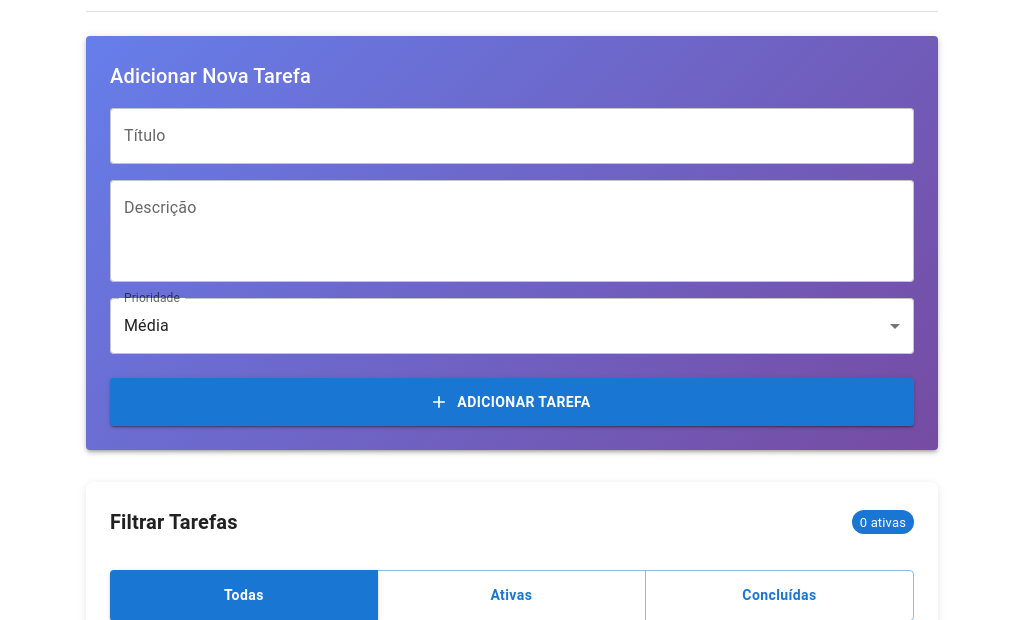
Test: Inicio › Integração de Componentes › deve adicionar tarefa através do formulário
Step 1. Type "Minha Tarefa" into the field labelled "Título" → (512, 136), box x1=110 y1=108 x2=914 y2=164
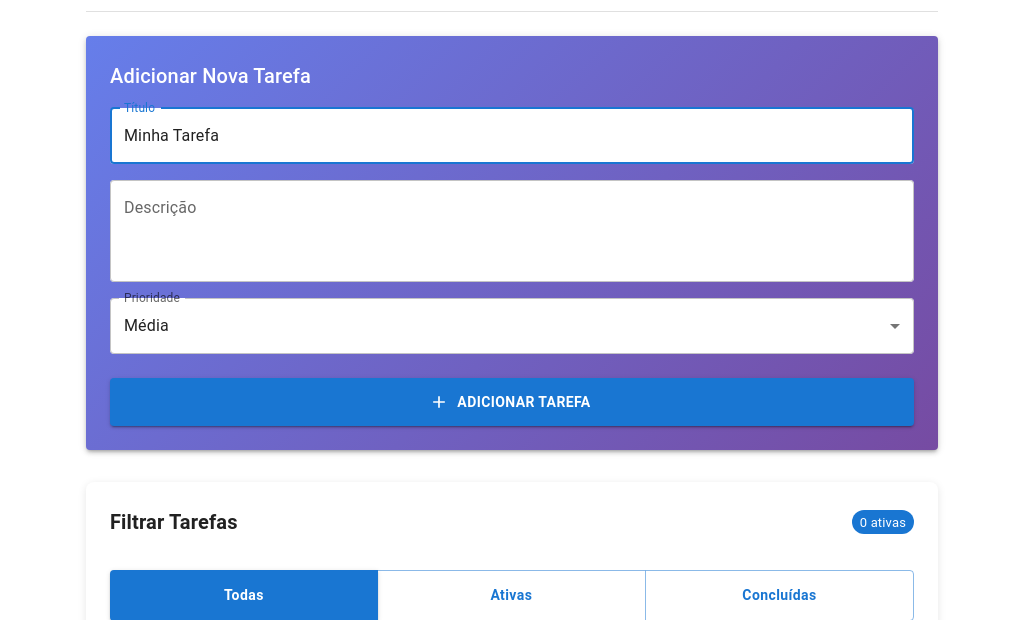
Step 2. Type "Descrição da tarefa" into the text box labelled "Descrição" → (512, 231), box x1=124 y1=196 x2=900 y2=265
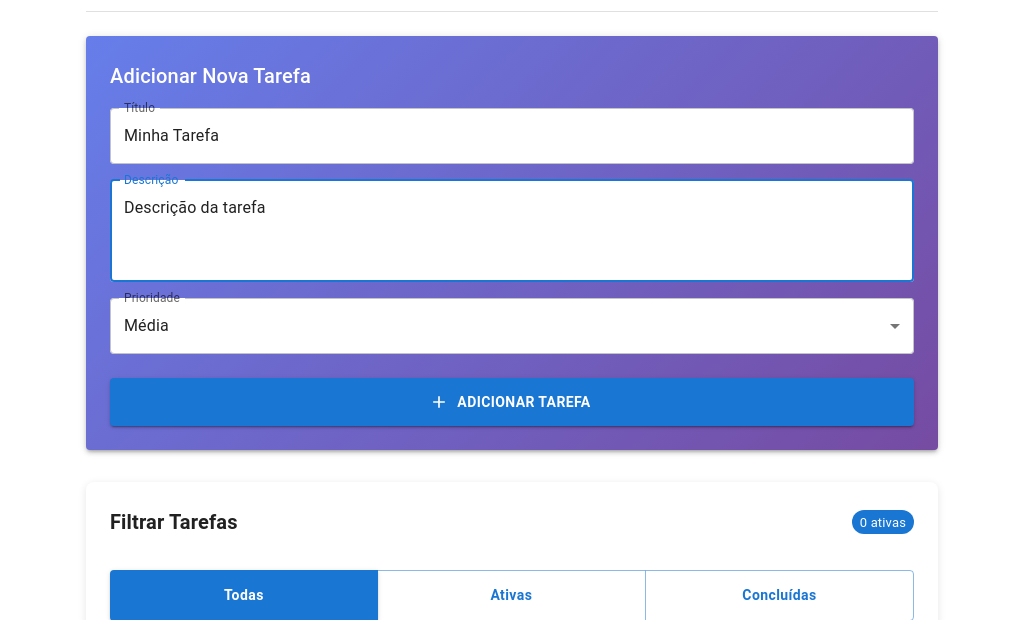
Step 3. Click the button with test id "botao-adicionar" → (512, 402), box x1=110 y1=378 x2=914 y2=426
(page scrolled)
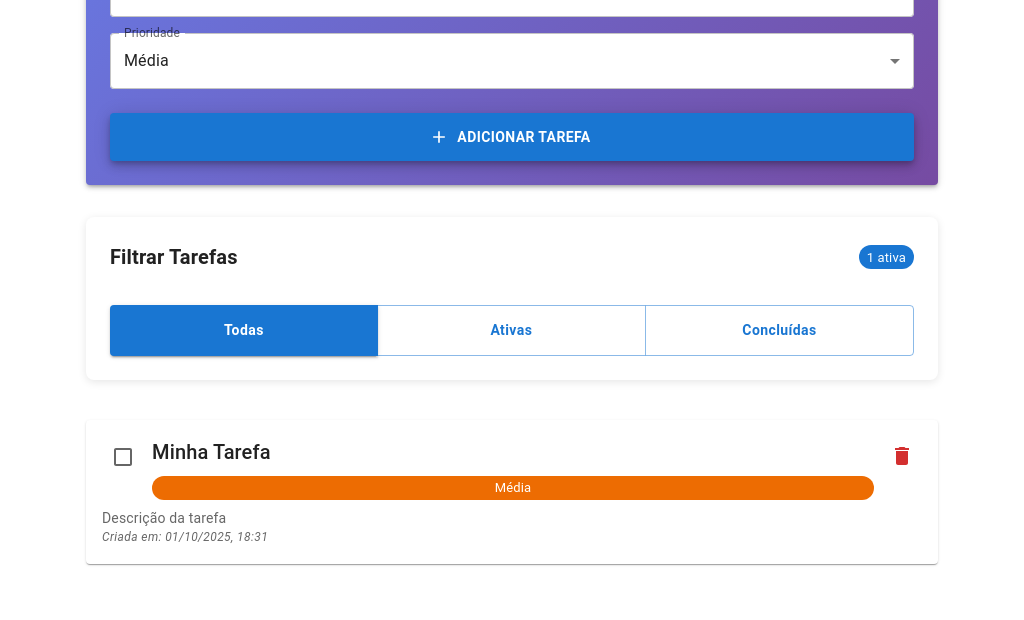
Expected: the heading "Minha Tarefa" is shown, x1=152 y1=440 x2=271 y2=464
Expected: the text "Descrição da tarefa" is shown, x1=102 y1=510 x2=226 y2=526
